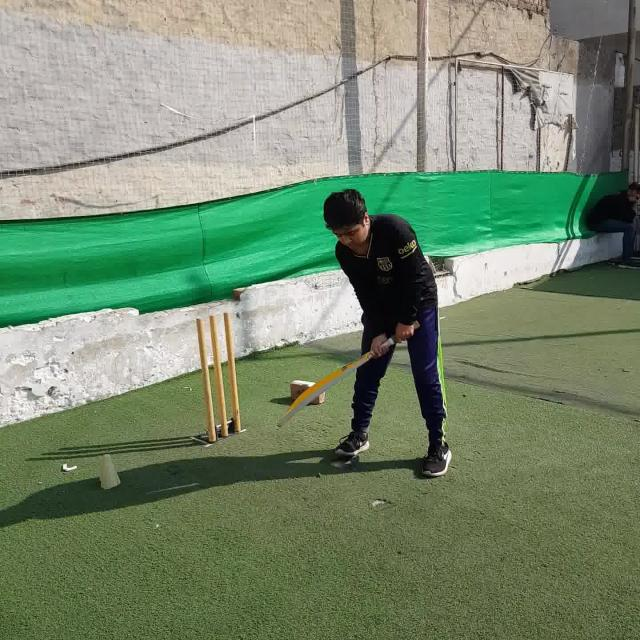bat: (278, 321, 419, 427)
